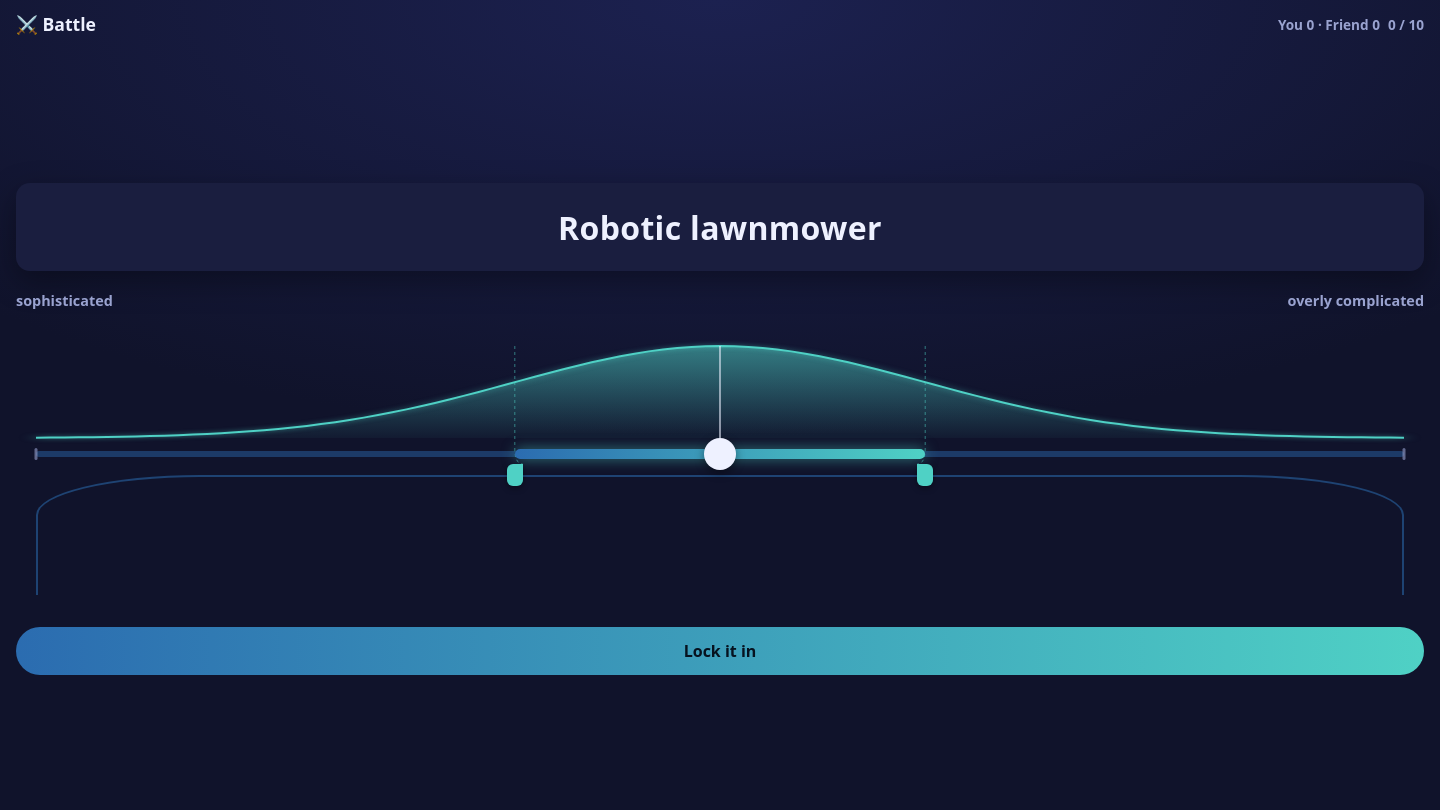
Test case: PvpScreen › shows the lead and flags a doubled next round
Expected: the heading "Robotic lawnmower" is shown, [558, 206, 882, 249]
Click the button "Lock it in": (720, 651) [16, 627, 1424, 675]
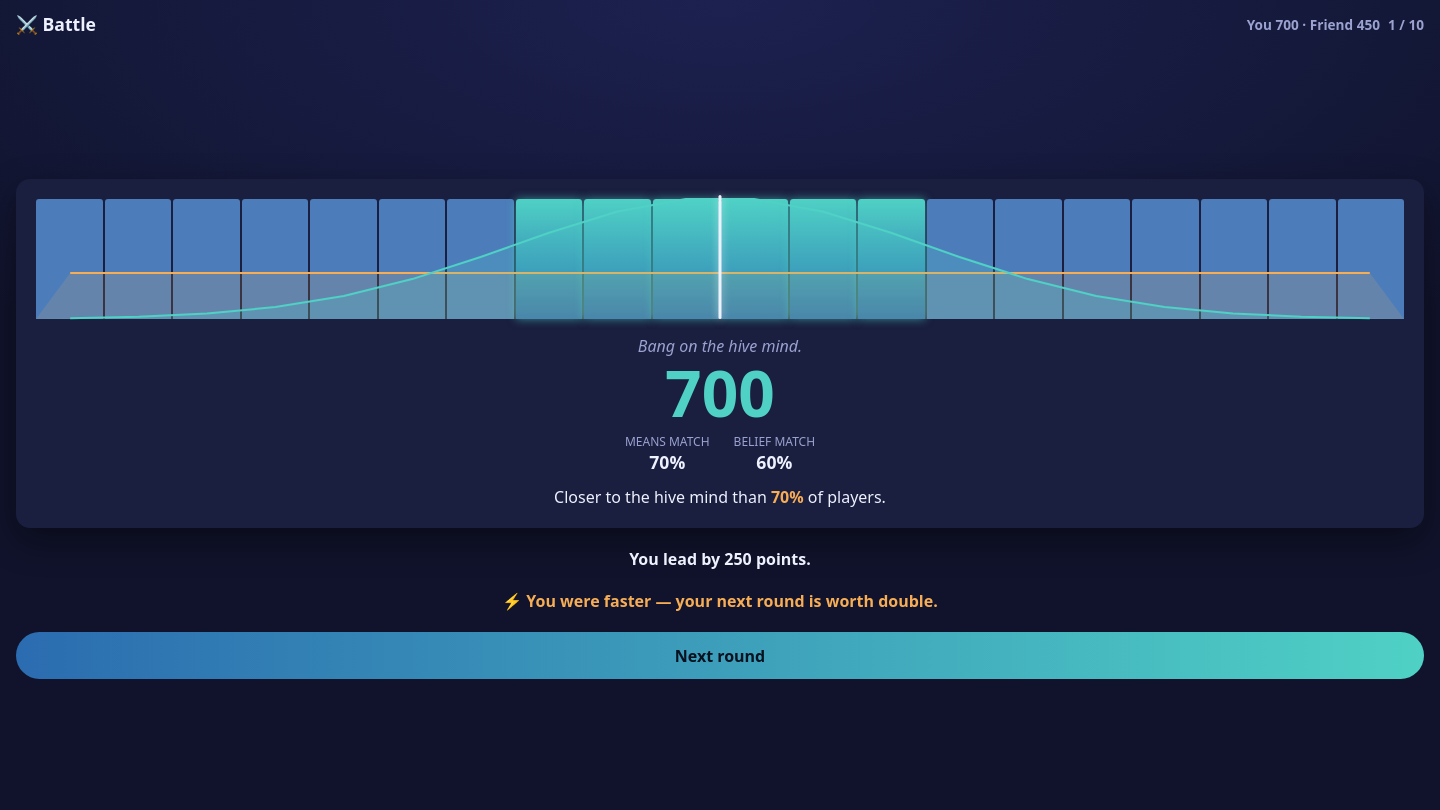
Result: the text "You lead by 250 points." is shown at [629, 548, 811, 570]
Result: the text "⚡ You were faster — your next round is worth double." is shown at [502, 590, 938, 612]
